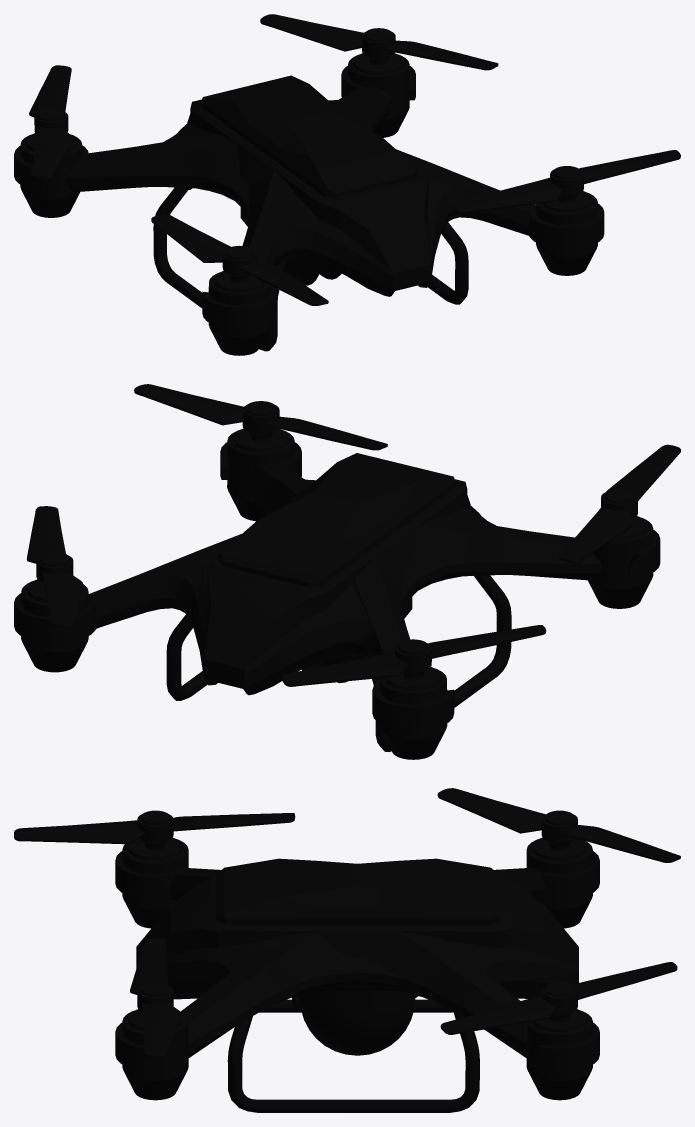
File: baked_model.glb
3 renders of one model, top to bottom at view 1: azimuth 30°, elevation 25°; view 2: azimuth 150°, elevation 25°; view 3: azimuth 270°, elevation 25°, orthographic. The views are drawn at different scales.
Visible parts, largest first — view 1: quadrocopter_body_object, quadrocopter_bumper_object, quadrocopter_propeller_1_object, quadrocopter_propeller_4_object, quadrocopter_propeller_2_object, quadrocopter_propeller_3_object, quadrocopter_cam2_object; view 2: quadrocopter_body_object, quadrocopter_bumper_object, quadrocopter_propeller_3_object, quadrocopter_propeller_2_object, quadrocopter_propeller_1_object, quadrocopter_propeller_4_object; view 3: quadrocopter_body_object, quadrocopter_bumper_object, quadrocopter_cam2_object, quadrocopter_propeller_2_object, quadrocopter_propeller_3_object, quadrocopter_propeller_4_object, quadrocopter_propeller_1_object.
Part boxes in pixels (<box>): quadrocopter_body_object: <box>14,28,604,355</box>; quadrocopter_bumper_object: <box>153,187,468,351</box>; quadrocopter_propeller_1_object: <box>453,150,680,213</box>; quadrocopter_propeller_4_object: <box>260,14,498,70</box>; quadrocopter_propeller_2_object: <box>151,214,328,305</box>; quadrocopter_propeller_3_object: <box>29,65,73,179</box>; quadrocopter_cam2_object: <box>284,258,341,285</box>; quadrocopter_body_object: <box>14,401,660,759</box>; quadrocopter_bumper_object: <box>166,575,511,751</box>; quadrocopter_propeller_3_object: <box>281,625,546,686</box>; quadrocopter_propeller_2_object: <box>559,444,680,563</box>; quadrocopter_propeller_1_object: <box>134,384,387,450</box>; quadrocopter_propeller_4_object: <box>26,506,82,628</box>; quadrocopter_body_object: <box>115,810,599,1100</box>; quadrocopter_bumper_object: <box>227,999,479,1112</box>; quadrocopter_cam2_object: <box>299,998,415,1055</box>; quadrocopter_propeller_2_object: <box>14,813,295,844</box>; quadrocopter_propeller_3_object: <box>437,788,680,862</box>; quadrocopter_propeller_4_object: <box>440,962,677,1034</box>; quadrocopter_propeller_1_object: <box>130,938,181,1058</box>.
Size of the model in its own units: 1050 by 344 by 1108.
Materials: 2 (1 with a texture image).
